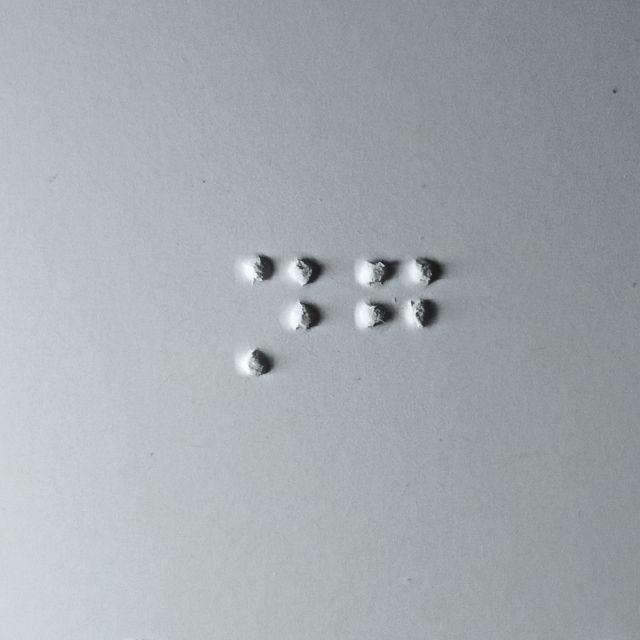g: (355, 253, 443, 386)
n: (236, 252, 324, 385)
